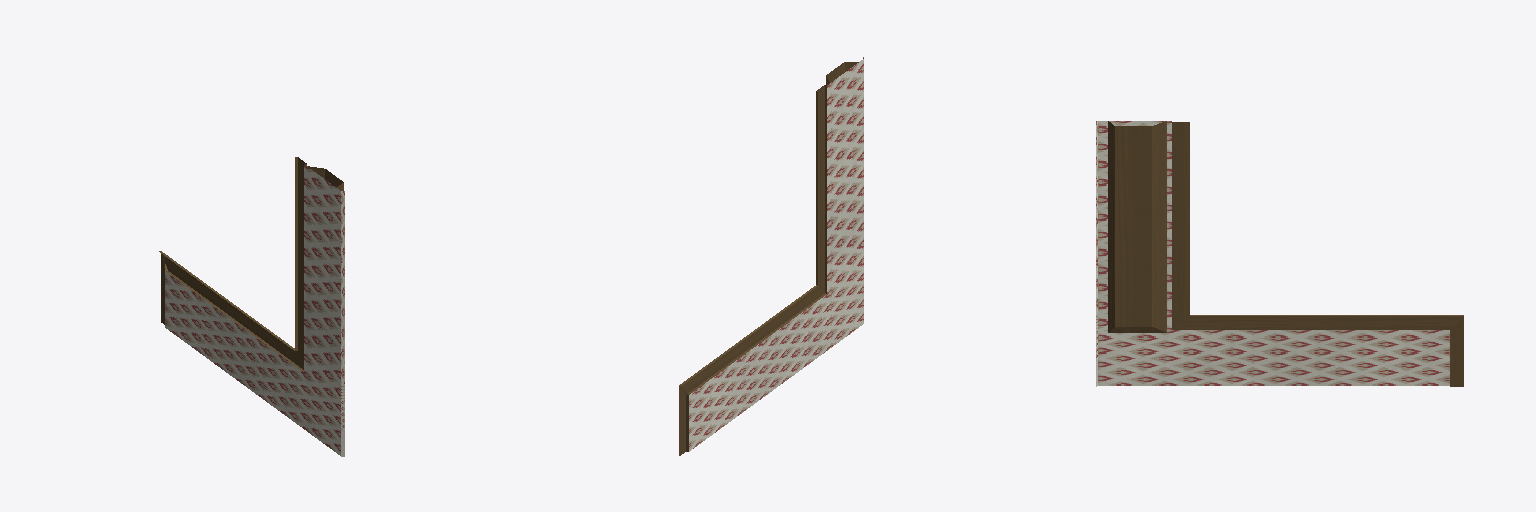
The picture shows the model from 3 angles: view 1: azimuth 30°, elevation 25°; view 2: azimuth 150°, elevation 25°; view 3: azimuth 270°, elevation 25°; orthographic projection.
Parts seen in each view (by area): view 1: Plane; view 2: Plane; view 3: Plane.
Boxes of the visible parts, <box> form: Plane: <box>159,157,344,456</box>; Plane: <box>679,57,863,455</box>; Plane: <box>1096,121,1463,386</box>.
Bounding box in the file's own units: 0.0886 × 2 × 2.52.
Materials: 1 (1 with a texture image).